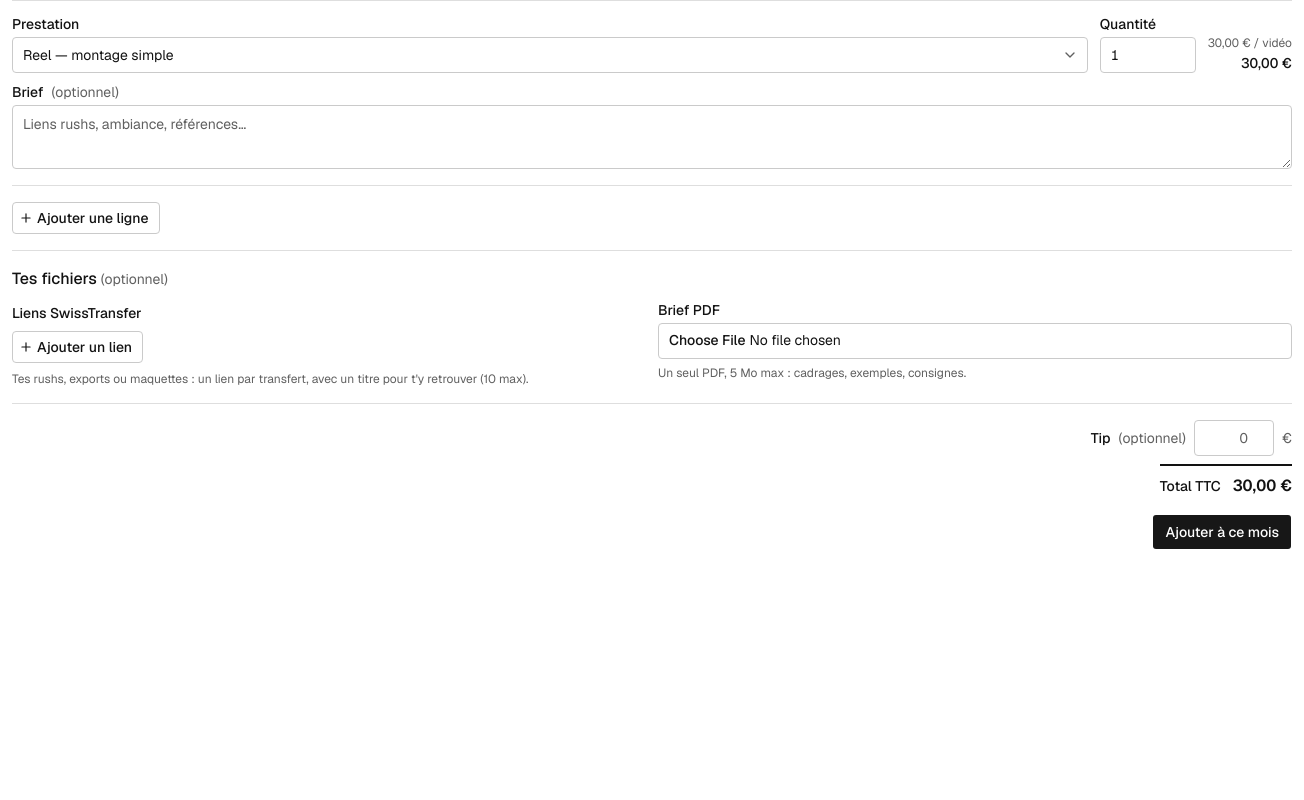
it: CommandeForm › bloque une quantité hors bornes
Clear the number field labelled "Quantité" at [1148, 55], box left=1100, top=37, right=1196, bottom=73
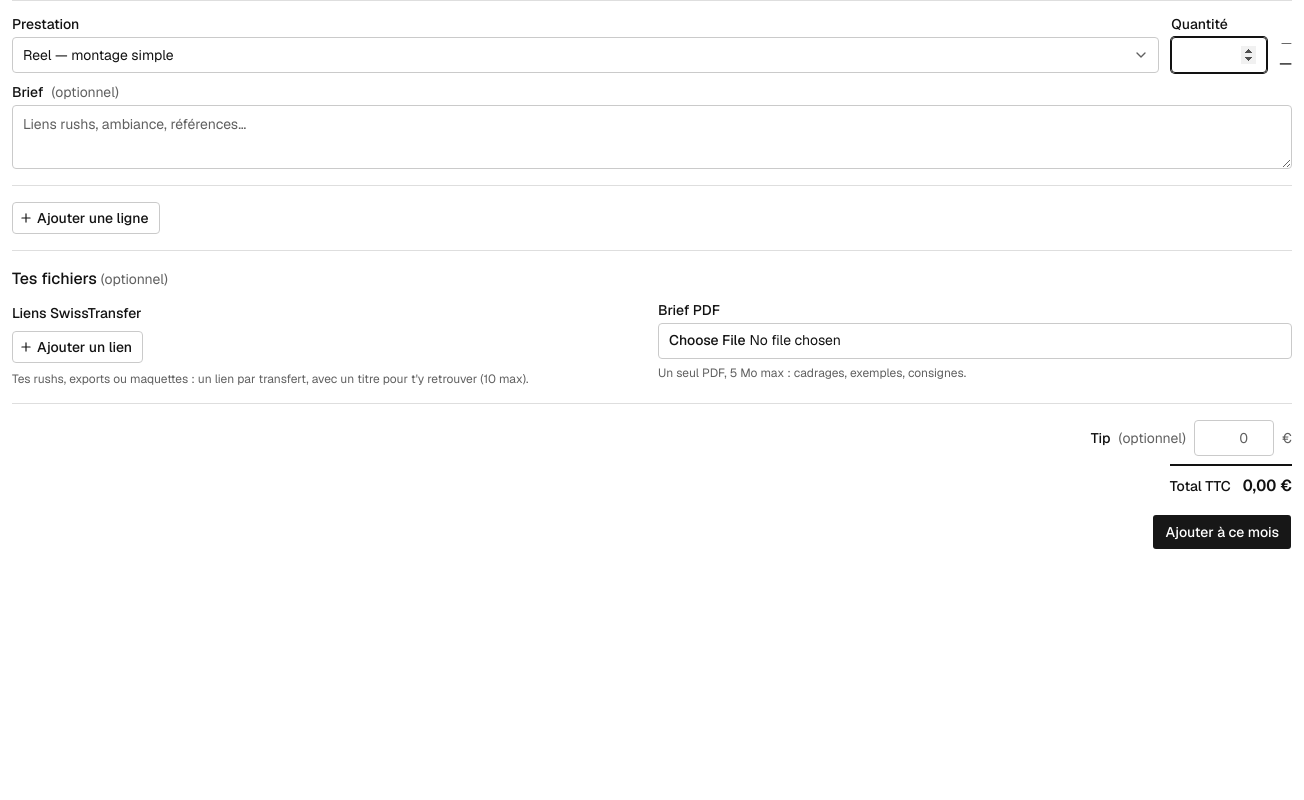
Type "0" into the number field labelled "Quantité" at [1219, 55], box left=1171, top=37, right=1267, bottom=73
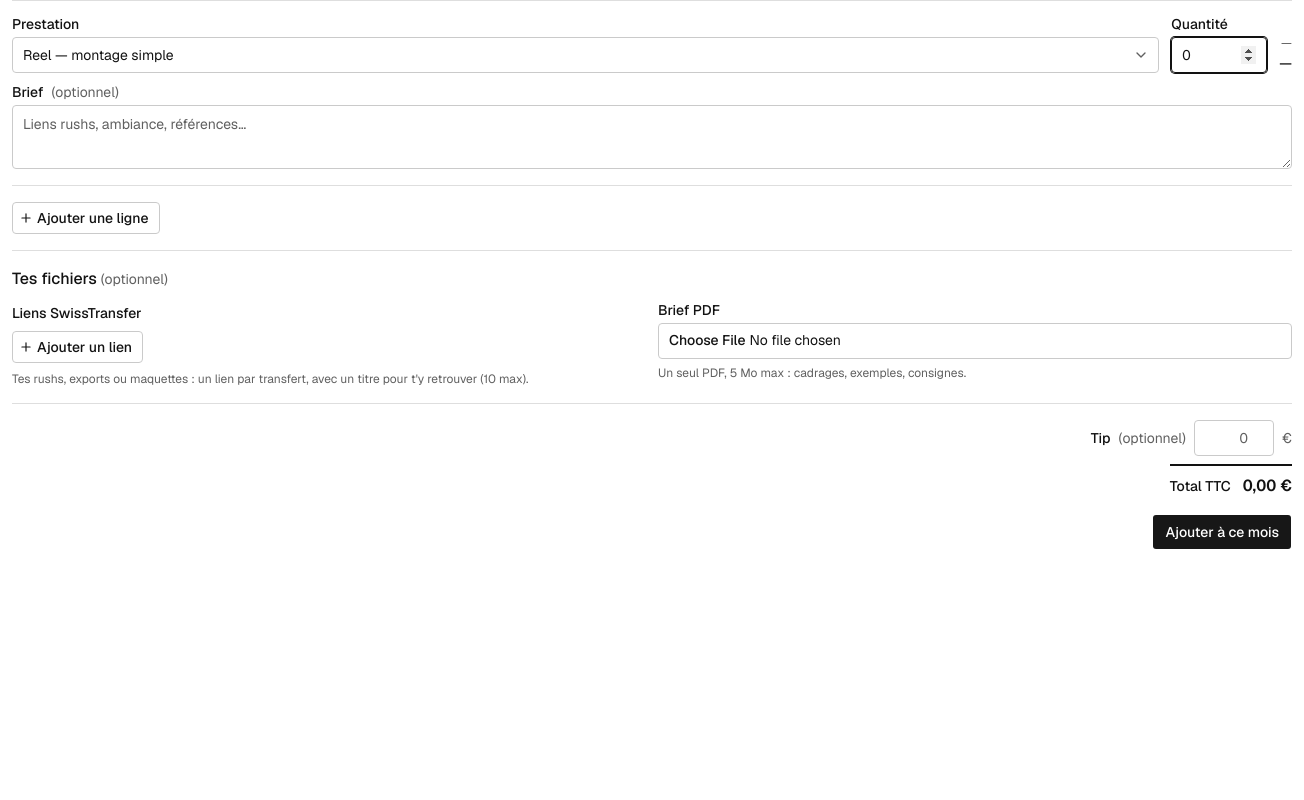
Click the button "Ajouter à ce mois" at [1222, 532], box left=1152, top=514, right=1292, bottom=550
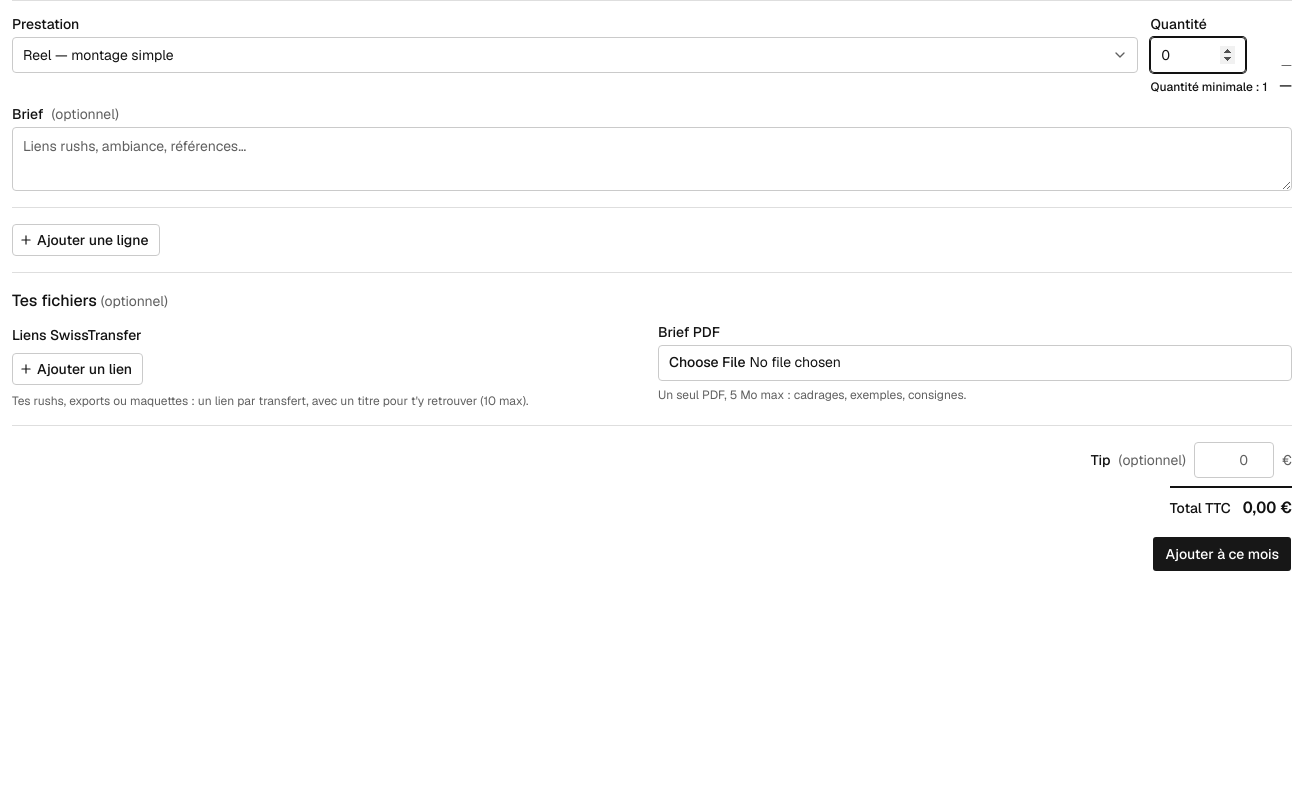
expect the text "Quantité minimale : 1" is shown: met, box left=1150, top=79, right=1267, bottom=95
